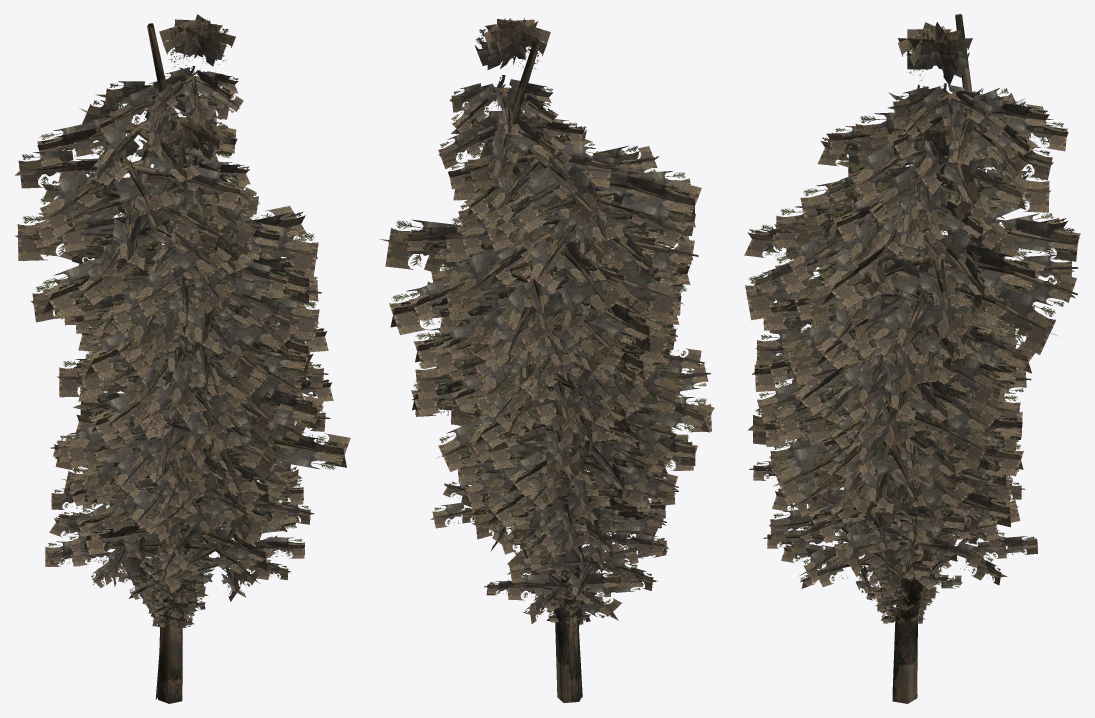
Rendered from pine_tree_01_lod2.glb.
The picture shows the model from 3 angles, left to right: view 1: azimuth 30°, elevation 25°; view 2: azimuth 150°, elevation 25°; view 3: azimuth 270°, elevation 25°; orthographic projection. The views are drawn at different scales.
Parts seen in each view (by area): view 1: pine_tree_01_a_LOD0_LOD2, pine_tree_01_c_LOD0_LOD2, pine_tree_01_b_LOD0_LOD2; view 2: pine_tree_01_a_LOD0_LOD2, pine_tree_01_c_LOD0_LOD2, pine_tree_01_b_LOD0_LOD2; view 3: pine_tree_01_a_LOD0_LOD2, pine_tree_01_c_LOD0_LOD2, pine_tree_01_b_LOD0_LOD2.
Boxes of the visible parts, x1,y1,x2,y2 form: pine_tree_01_a_LOD0_LOD2: (15, 14, 318, 703); pine_tree_01_c_LOD0_LOD2: (45, 116, 328, 699); pine_tree_01_b_LOD0_LOD2: (54, 226, 350, 629); pine_tree_01_a_LOD0_LOD2: (380, 18, 701, 702); pine_tree_01_c_LOD0_LOD2: (413, 111, 714, 697); pine_tree_01_b_LOD0_LOD2: (411, 194, 704, 627); pine_tree_01_a_LOD0_LOD2: (749, 14, 1080, 703); pine_tree_01_c_LOD0_LOD2: (744, 112, 1037, 696); pine_tree_01_b_LOD0_LOD2: (747, 190, 1034, 625).
Bounding box in the file's own units: 9.26 × 20.59 × 9.07.
Materials: 4 (4 with a texture image).
